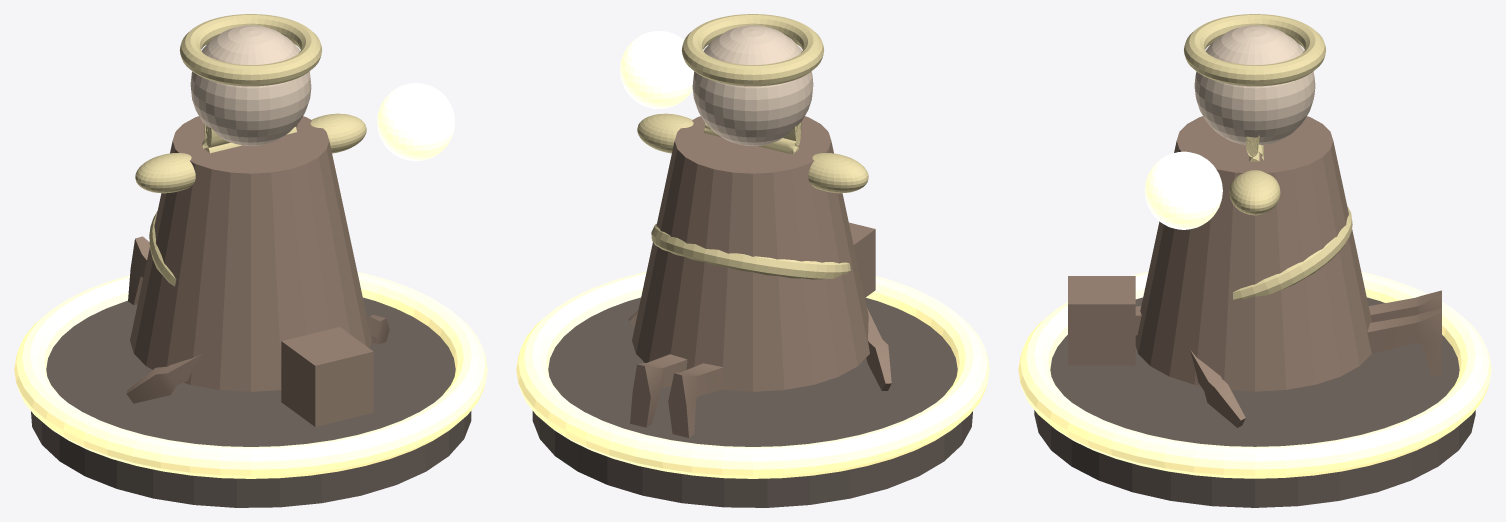
File: unit_faria.glb
3 views of the same model, side by side, from view 1: azimuth 30°, elevation 25°; view 2: azimuth 150°, elevation 25°; view 3: azimuth 270°, elevation 25° (orthographic).
Parts seen in each view (by area): view 1: Cone, Cylinder, Torus, Proxy, Sphere.002, Torus.002, Sphere.003, Sphere, Sphere.001, Torus.001, book_01_mesh_00; view 2: Cone, Cylinder, Torus, Sphere.002, Proxy, Torus.002, Sphere.003, Torus.001, Sphere, Sphere.001, book_01_mesh_00; view 3: Cone, Cylinder, Torus, Proxy, Sphere.002, Torus.002, Sphere.003, Torus.001, Sphere.001.
Part boxes in pixels (bbox=[...]): Cone: bbox=[130, 116, 371, 391]; Cylinder: bbox=[31, 297, 471, 507]; Torus: bbox=[14, 271, 487, 478]; Proxy: bbox=[126, 236, 389, 426]; Sphere.002: bbox=[190, 25, 311, 146]; Torus.002: bbox=[179, 14, 322, 86]; Sphere.003: bbox=[377, 83, 455, 161]; Sphere: bbox=[135, 153, 195, 193]; Sphere.001: bbox=[310, 113, 366, 153]; Torus.001: bbox=[149, 211, 176, 286]; book_01_mesh_00: bbox=[202, 123, 297, 153]; Cone: bbox=[632, 116, 869, 391]; Cylinder: bbox=[532, 297, 972, 507]; Torus: bbox=[516, 271, 989, 478]; Sphere.002: bbox=[692, 25, 813, 146]; Proxy: bbox=[628, 222, 891, 437]; Torus.002: bbox=[681, 14, 824, 86]; Sphere.003: bbox=[620, 31, 694, 108]; Torus.001: bbox=[651, 223, 850, 279]; Sphere: bbox=[808, 153, 868, 193]; Sphere.001: bbox=[637, 113, 693, 153]; book_01_mesh_00: bbox=[704, 122, 801, 154]; Cone: bbox=[1135, 116, 1371, 391]; Cylinder: bbox=[1034, 297, 1475, 507]; Torus: bbox=[1018, 271, 1491, 478]; Proxy: bbox=[1068, 276, 1441, 427]; Sphere.002: bbox=[1194, 25, 1315, 145]; Torus.002: bbox=[1184, 14, 1325, 86]; Sphere.003: bbox=[1144, 151, 1222, 229]; Torus.001: bbox=[1233, 206, 1352, 299]; Sphere.001: bbox=[1229, 170, 1280, 215].
Bounding box in the file's own units: 1.33 × 1.19 × 1.33.
